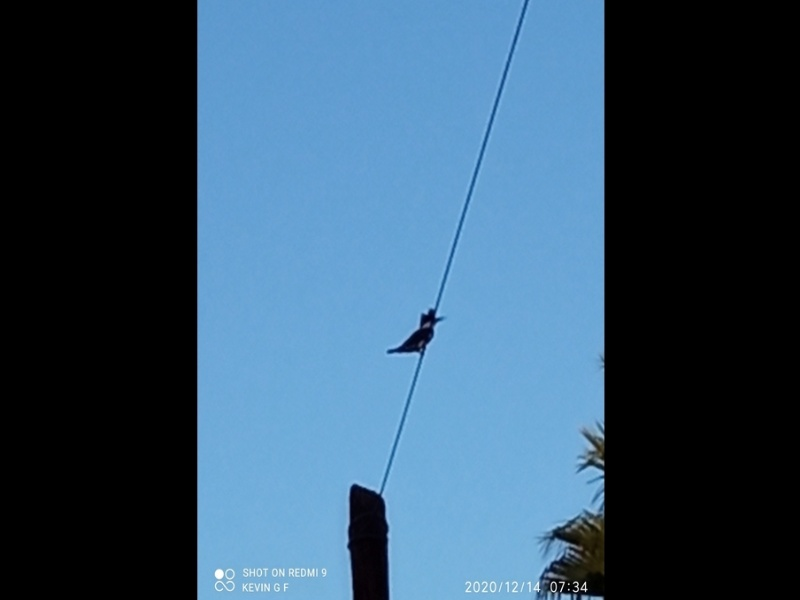kingfisher: (384, 308, 447, 362)
